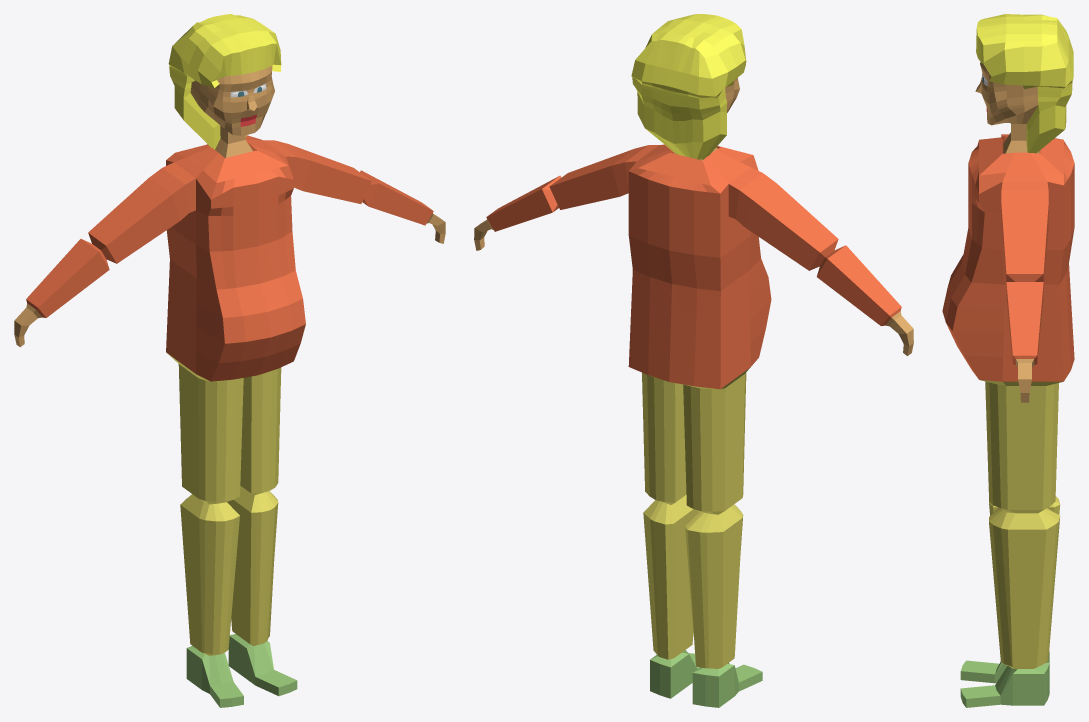
The model's file is hamile_kadn.fbx.
3 renders of one model, left to right at view 1: azimuth 30°, elevation 25°; view 2: azimuth 150°, elevation 25°; view 3: azimuth 270°, elevation 25°, orthographic. The views are drawn at different scales.
Parts seen in each view (by area): view 1: tşört, kol, KOL, SAÇ, KOL.002, ayakkabı, Cube; view 2: tşört, kol, SAÇ, KOL, KOL.002, ayakkabı; view 3: tşört, kol, SAÇ, KOL.002, ayakkabı, Cube, el.001.
Part boxes in pixels (x1=…): tşört: x1=166, y1=135, x2=305, y2=381; kol: x1=167, y1=353, x2=281, y2=655; KOL: x1=26, y1=162, x2=195, y2=317; SAÇ: x1=168, y1=14, x2=281, y2=149; KOL.002: x1=264, y1=140, x2=433, y2=225; ayakkabı: x1=186, y1=634, x2=297, y2=707; Cube: x1=190, y1=66, x2=274, y2=157; tşört: x1=628, y1=144, x2=771, y2=389; kol: x1=642, y1=367, x2=750, y2=668; SAÇ: x1=631, y1=14, x2=746, y2=159; KOL: x1=728, y1=167, x2=901, y2=325; KOL.002: x1=486, y1=145, x2=658, y2=231; ayakkabı: x1=650, y1=650, x2=762, y2=707; tşört: x1=942, y1=136, x2=1074, y2=381; kol: x1=980, y1=380, x2=1062, y2=668; SAÇ: x1=976, y1=14, x2=1073, y2=153; KOL.002: x1=1001, y1=181, x2=1048, y2=364; ayakkabı: x1=960, y1=651, x2=1049, y2=707; Cube: x1=975, y1=62, x2=1039, y2=153; el.001: x1=1016, y1=359, x2=1034, y2=402.
Size of the model in its own units: 146 by 213 by 38.36.
